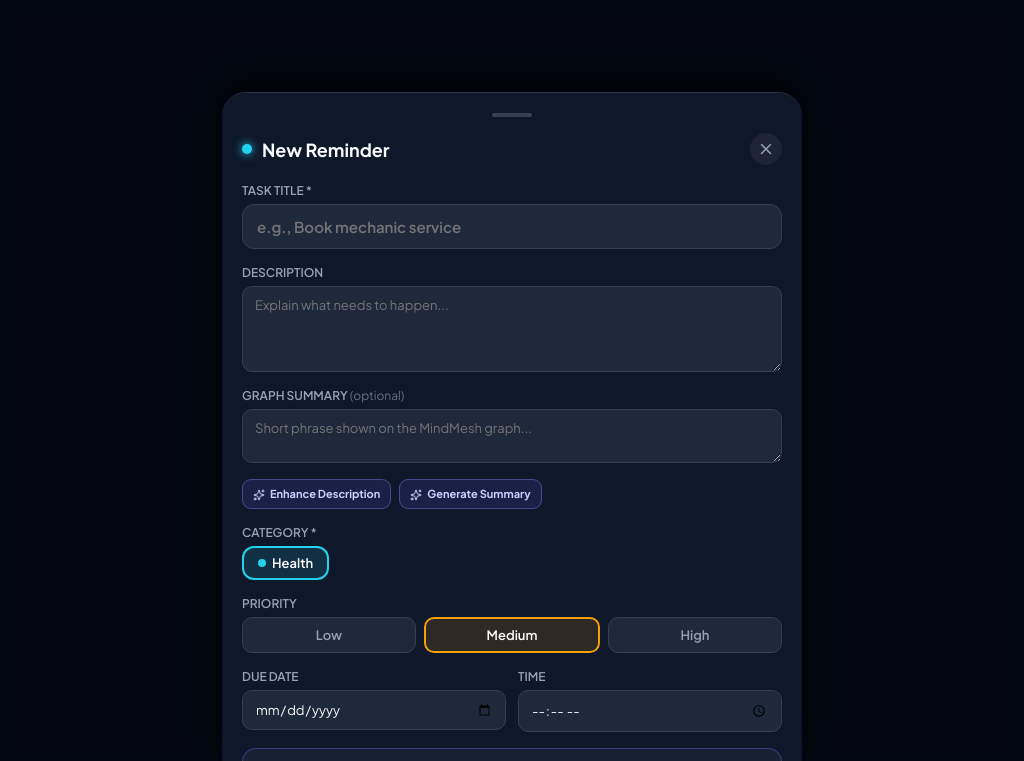
Reminder notification configuration › warns that a due date is needed before a schedule can run
Type "No date yet" into the field with placeholder "e.g., Book mechanic service".
click(512, 227); type("No date yet")  # box [242,204,782,249]
(page scrolled)
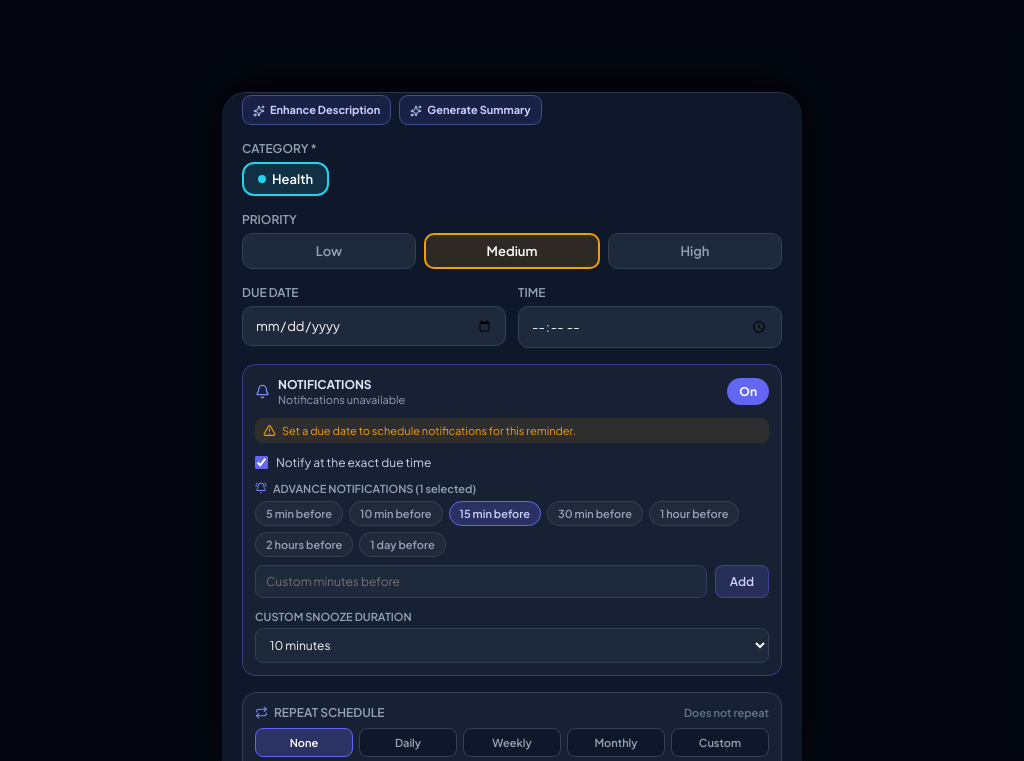
Expected: the text "Set a due date to schedule notifications for this reminder." is shown, [282,424,576,437]
